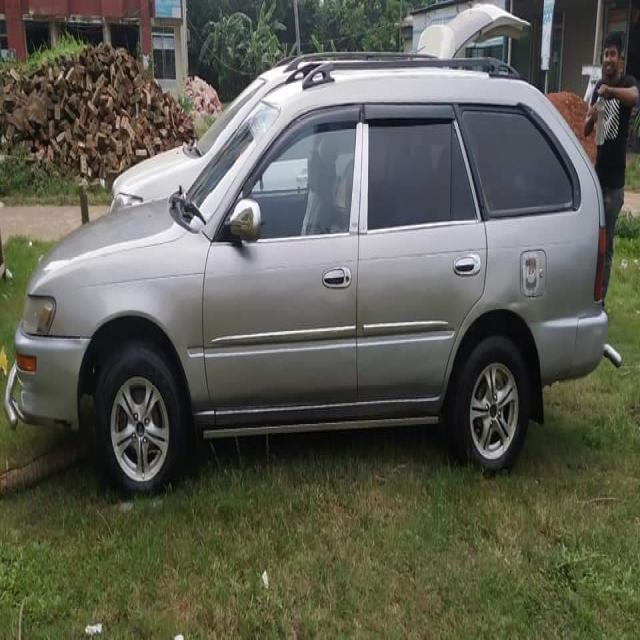silver: (13, 36, 612, 473)
